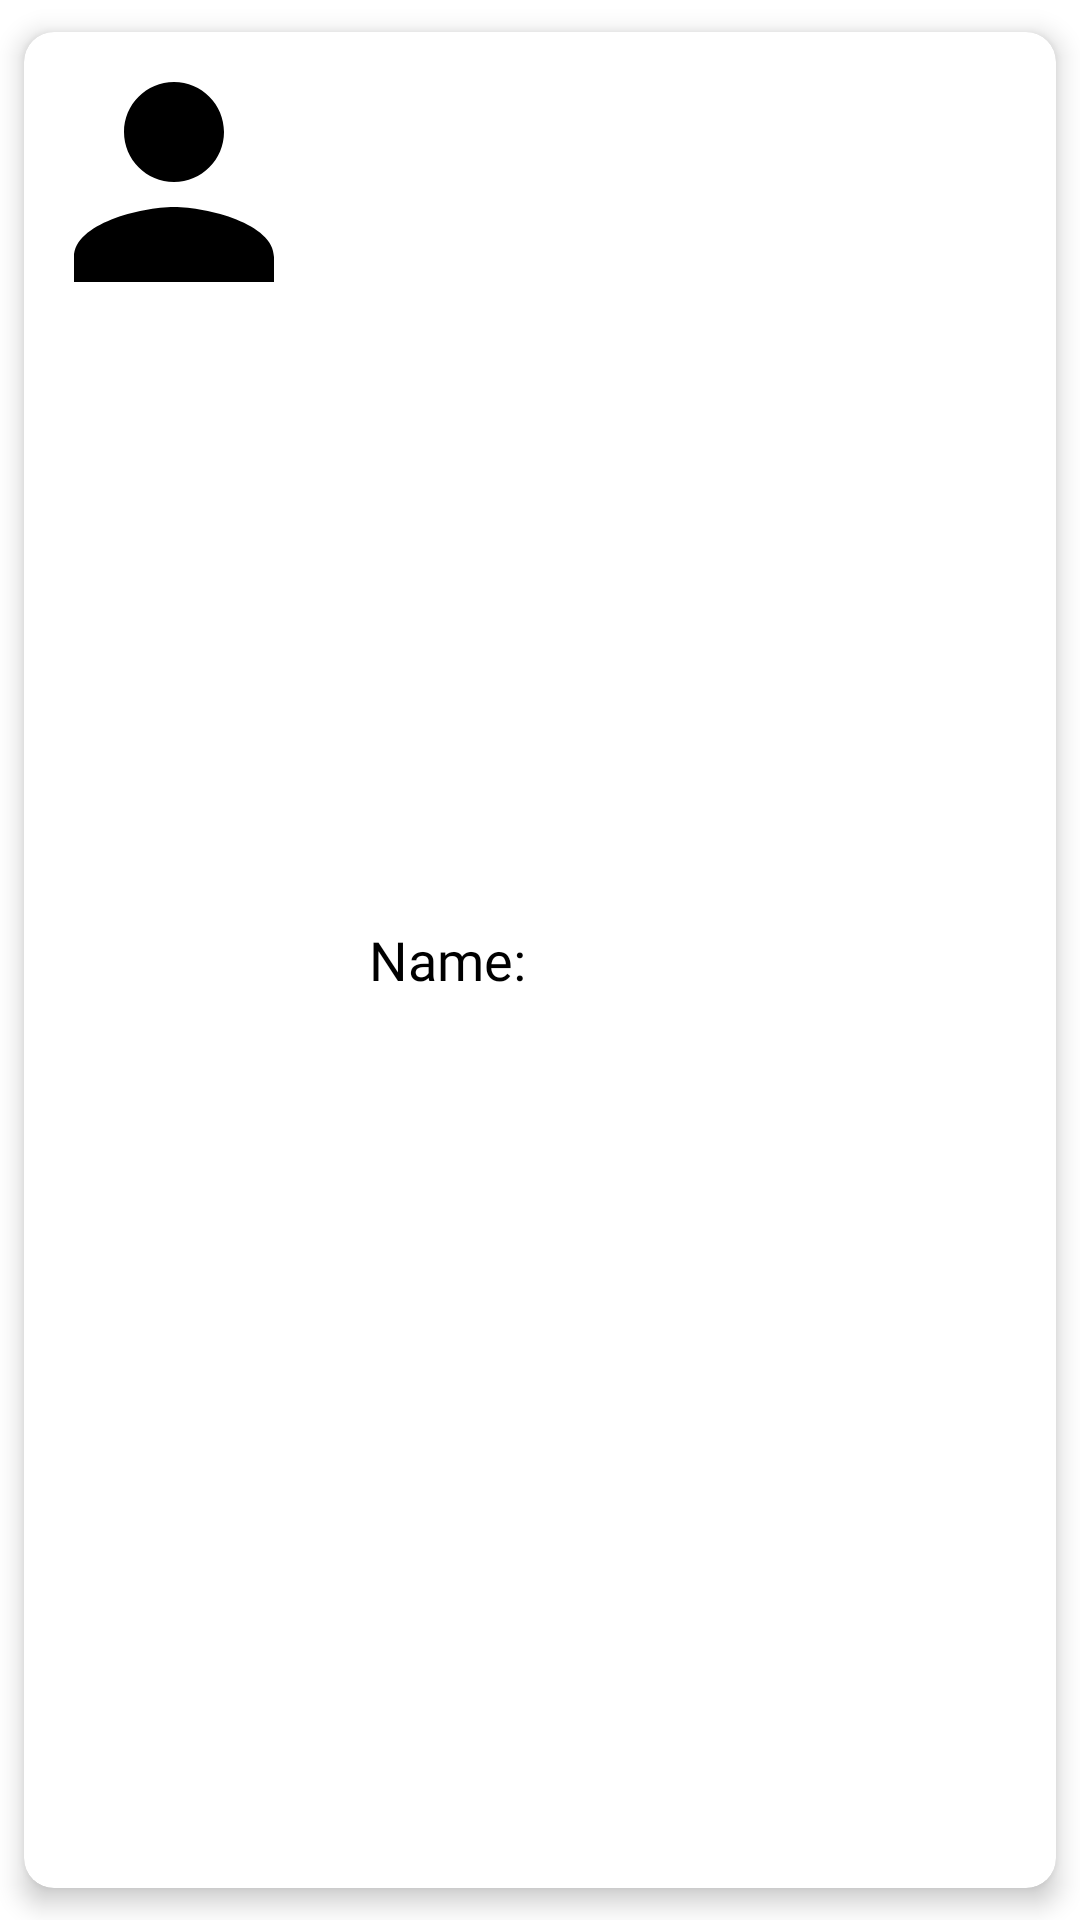

Point at icon controls on the screen. Image size 1080px×1920px, points as (x=x, y=y).
person: (x=158, y=157)
